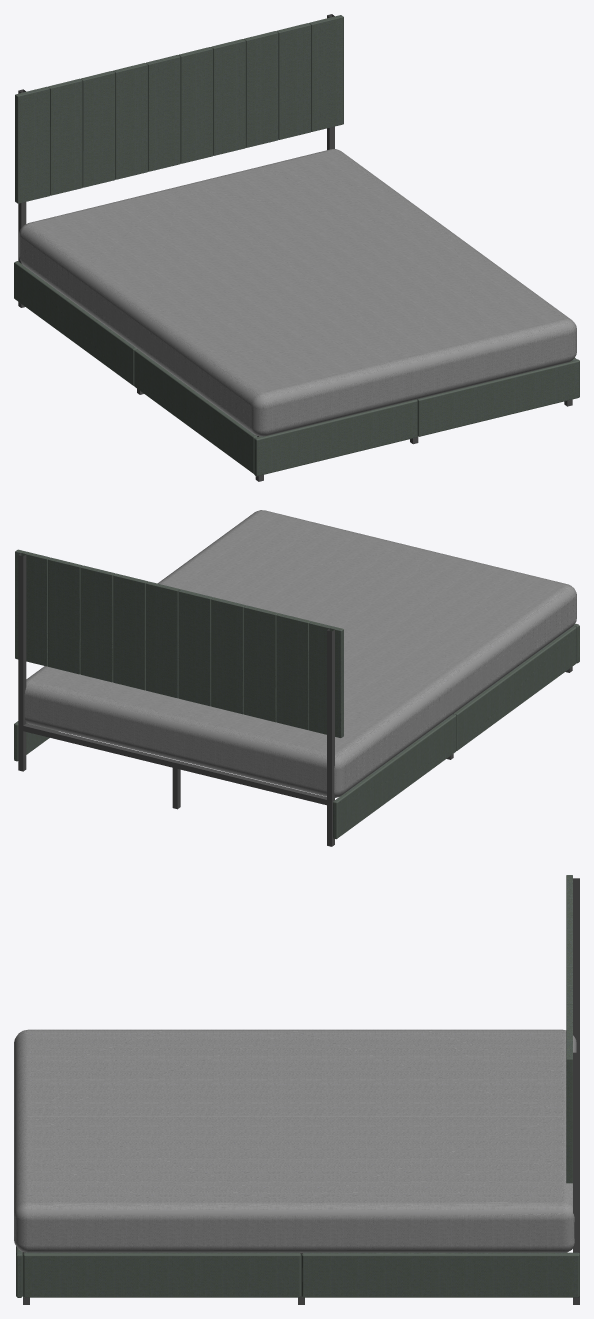
Rendered from queen-bed.glb.
3 renders of one model, top to bottom at view 1: azimuth 30°, elevation 25°; view 2: azimuth 150°, elevation 25°; view 3: azimuth 270°, elevation 25°, orthographic. The views are drawn at different scales.
Visible parts, largest first — view 1: bed_white_2, bed_grey_2, kitchenette_metal_2; view 2: bed_white_2, bed_grey_2, kitchenette_metal_2; view 3: bed_white_2, bed_grey_2, kitchenette_metal_2.
Boxes of the visible parts, left/top/right/bottom form: bed_white_2: left=19, top=149, right=576, bottom=436; bed_grey_2: left=14, top=15, right=579, bottom=476; kitchenette_metal_2: left=18, top=14, right=572, bottom=481; bed_white_2: left=24, top=510, right=576, bottom=797; bed_grey_2: left=14, top=549, right=579, bottom=839; kitchenette_metal_2: left=18, top=553, right=572, bottom=846; bed_white_2: left=14, top=1029, right=576, bottom=1252; bed_grey_2: left=16, top=875, right=579, bottom=1297; kitchenette_metal_2: left=23, top=878, right=579, bottom=1304.
Size of the model in its own units: 1.61 by 1.02 by 2.09.
3 materials, 2 textured.
